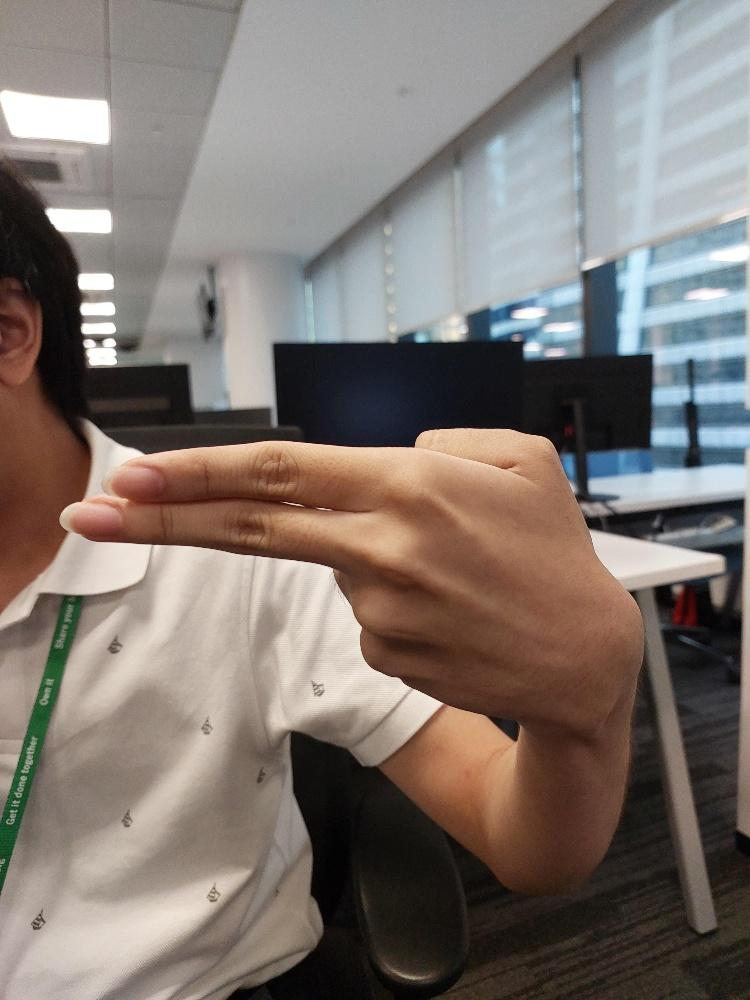h: (59, 421, 634, 721)
